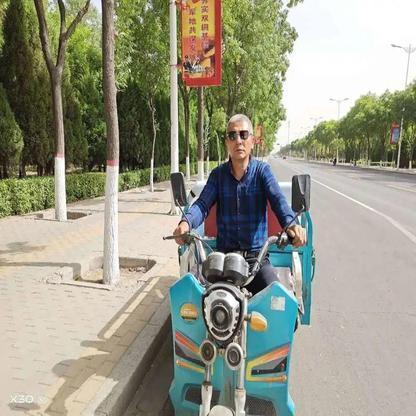target: (162, 111, 318, 406)
